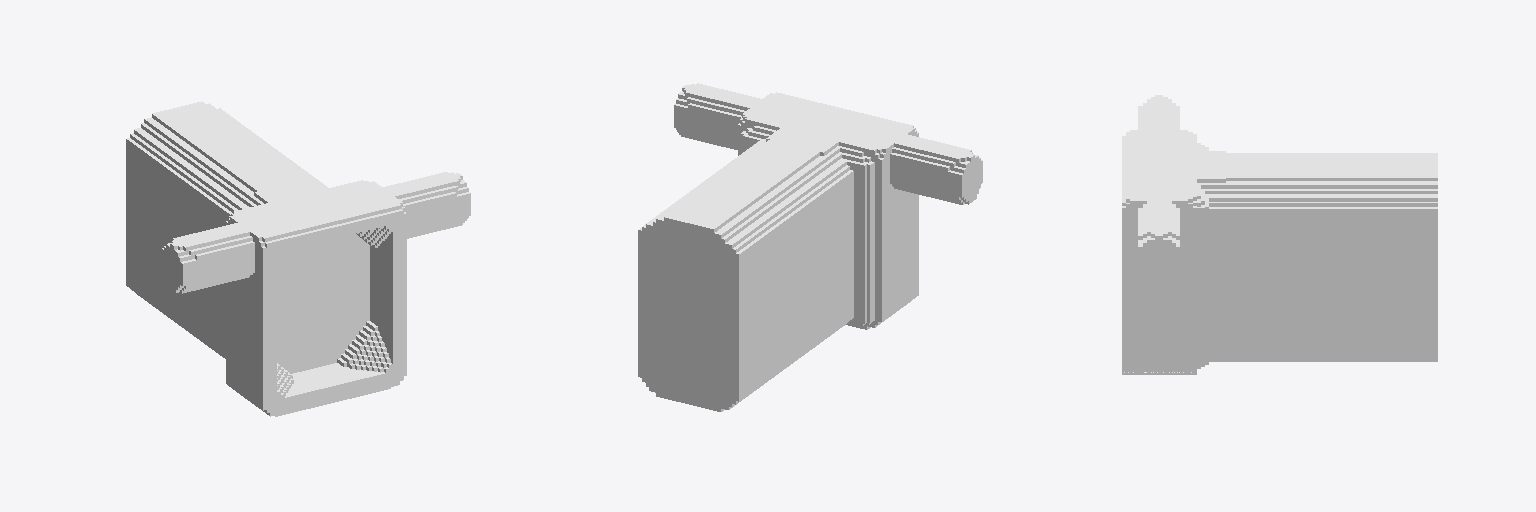
Rendered from JokerWarriror-6.obj.
3 views of the same model, side by side, from view 1: azimuth 30°, elevation 25°; view 2: azimuth 150°, elevation 25°; view 3: azimuth 270°, elevation 25° (orthographic).
Parts seen in each view (by area): view 1: object 1; view 2: object 1; view 3: object 1.
Boxes of the visible parts, <box> form: object 1: <box>126,101,470,416</box>; object 1: <box>638,83,982,411</box>; object 1: <box>1122,95,1437,374</box>.
Size of the model in its own units: 8 by 4.8 by 7.6.